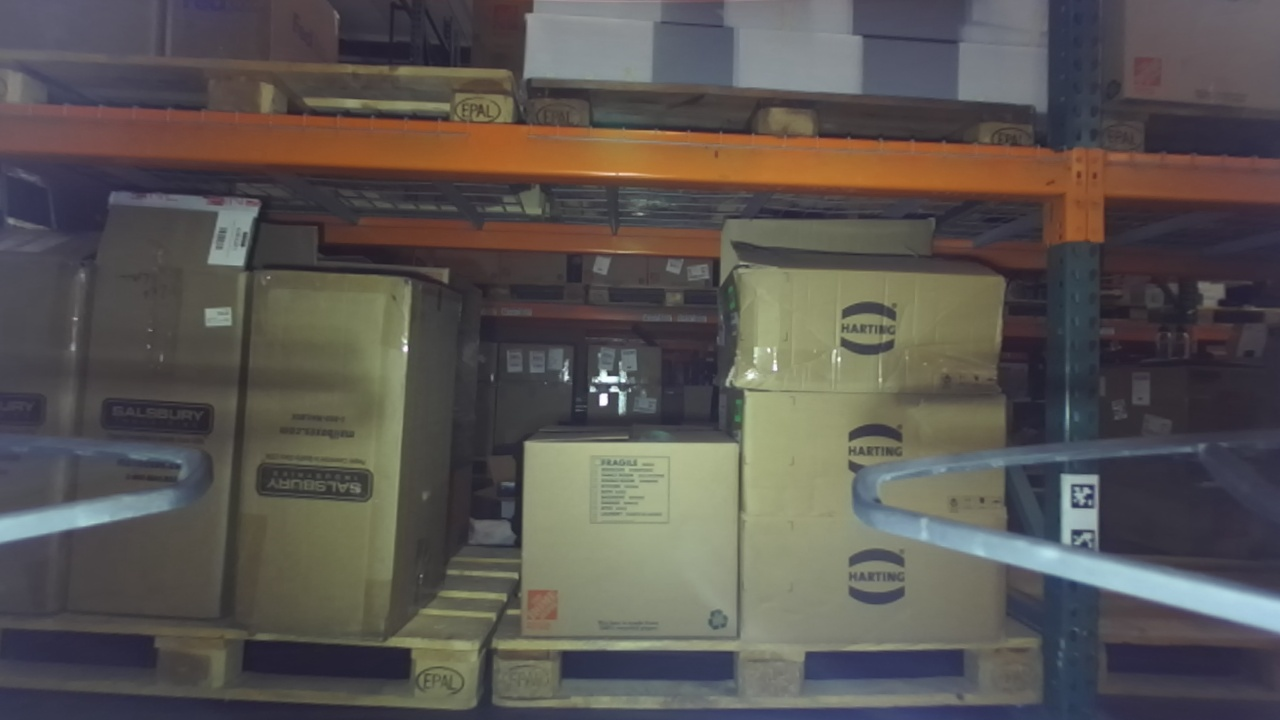box: (218, 252, 465, 637), (57, 183, 245, 622), (501, 409, 757, 655), (700, 214, 1020, 404), (730, 502, 1033, 668), (702, 378, 1020, 512)
